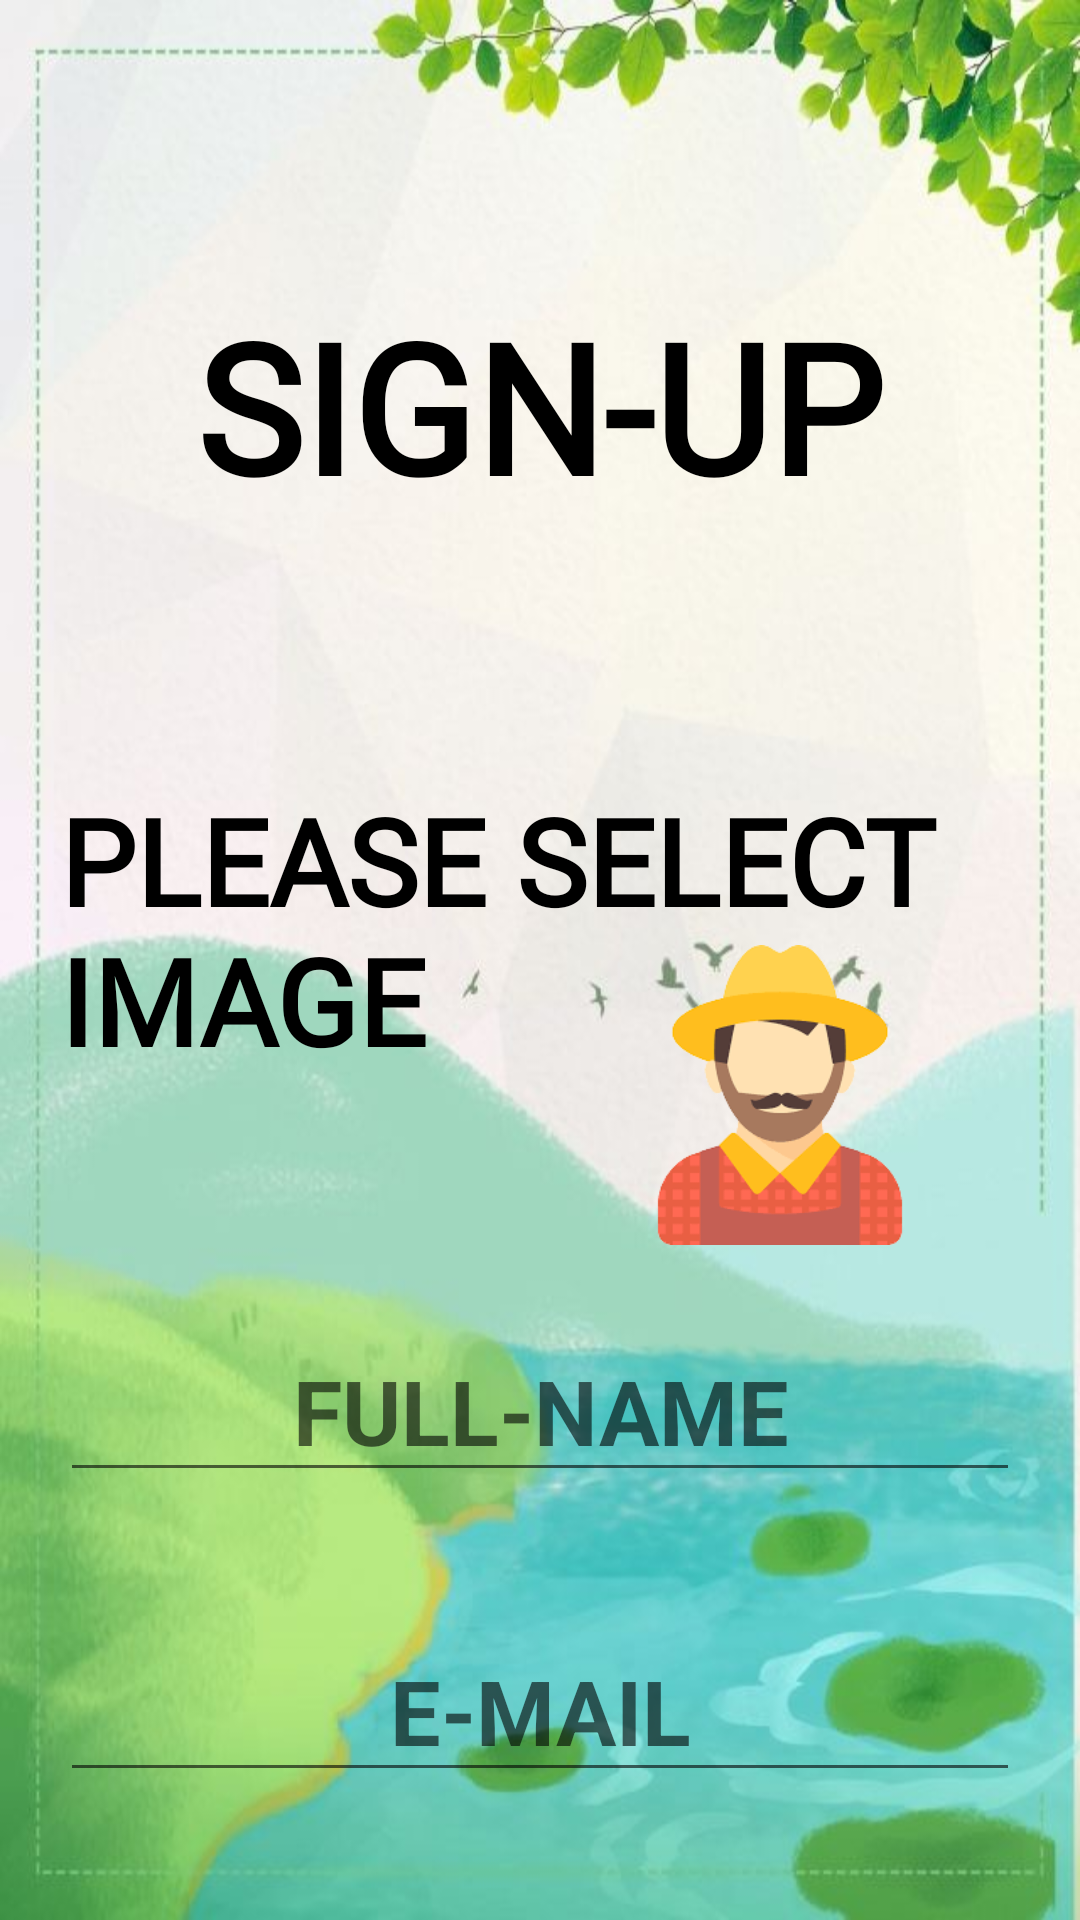

Screen size 1080px x 1920px. Icon name, then its center in pixels as point (x, y):
farmer face: point (780, 1095)
